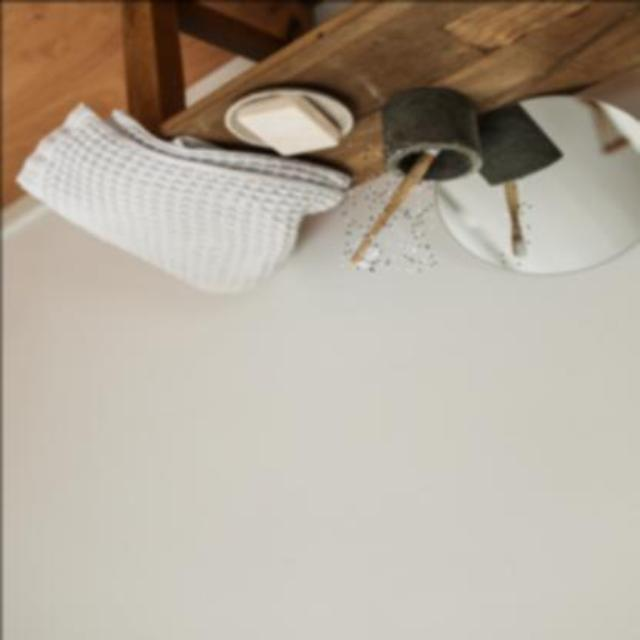toothbrush: (339, 144, 437, 270), (500, 176, 530, 264)
